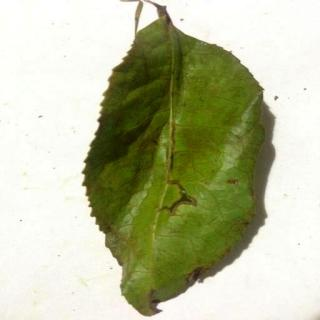Red Leaf Spot: (86, 7, 263, 316)
